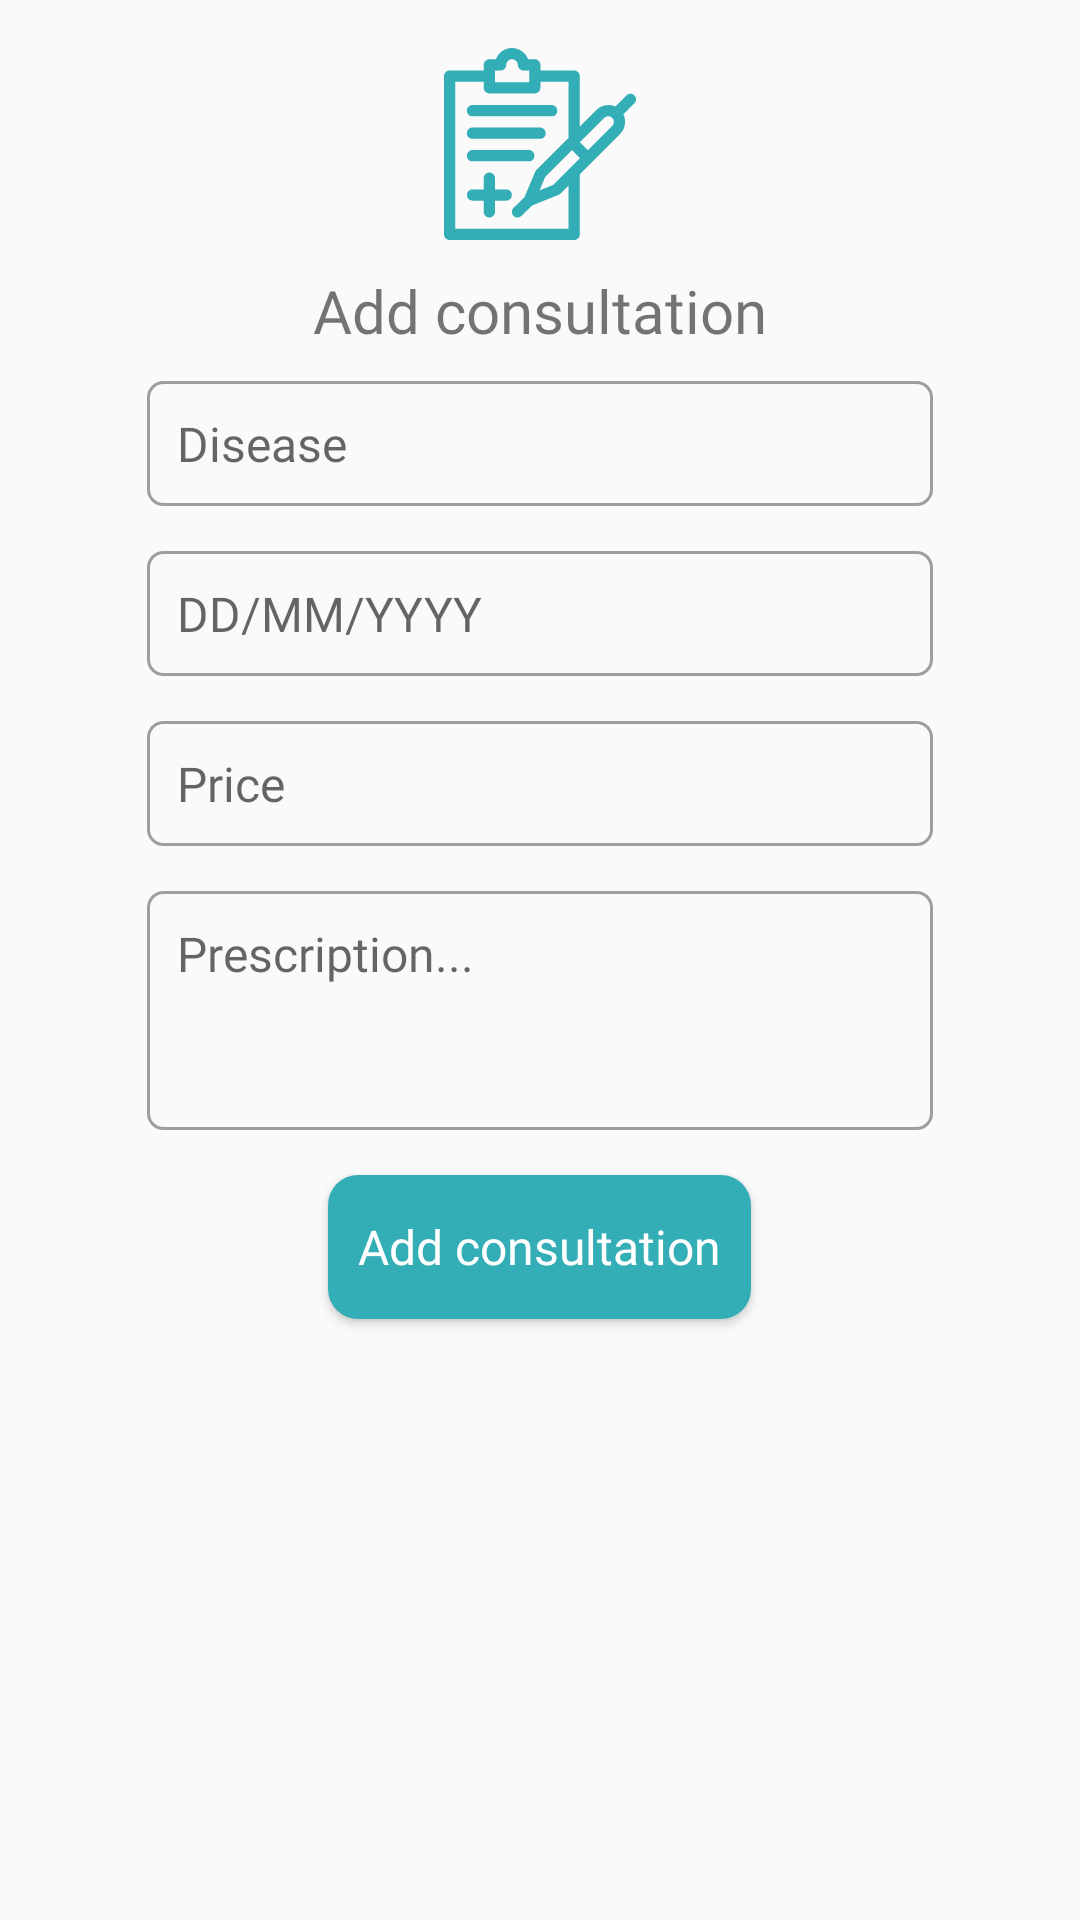

Icon click points for this 1080x1920 phone screenshot, format [x,y]:
medical history: [540,144]
